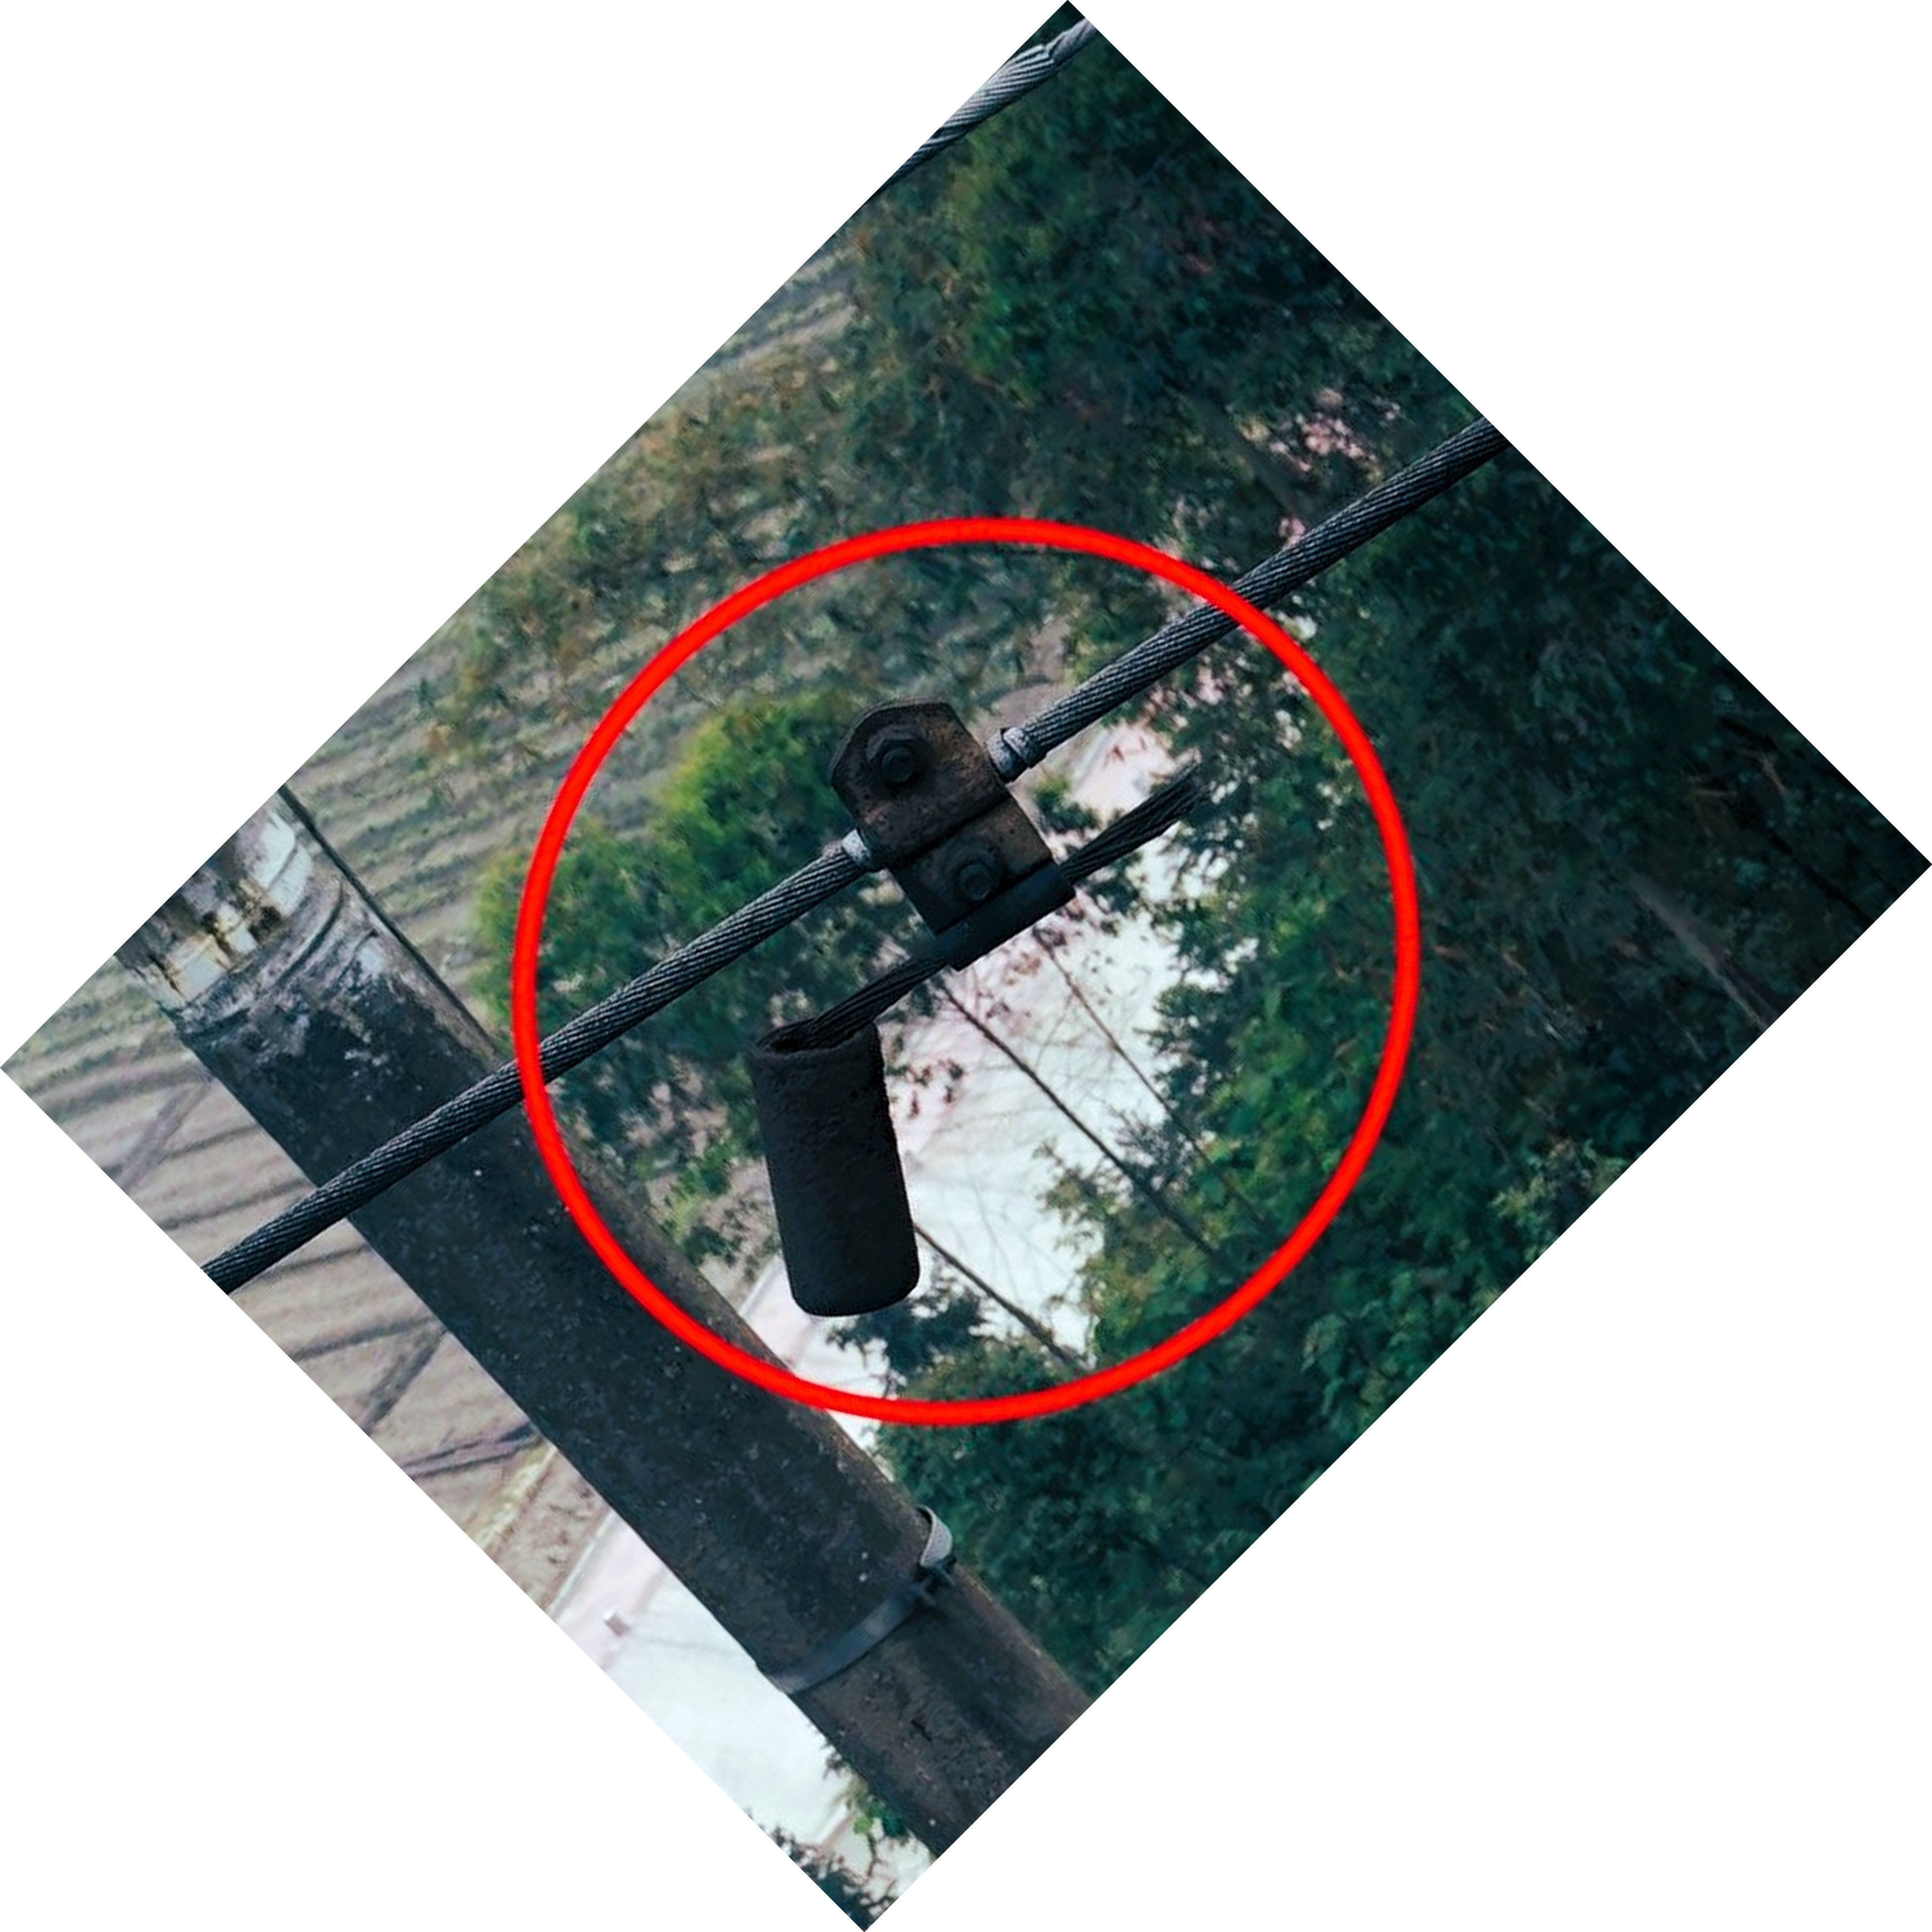Damage of shockproof hammer: (646, 662, 1263, 1341)
